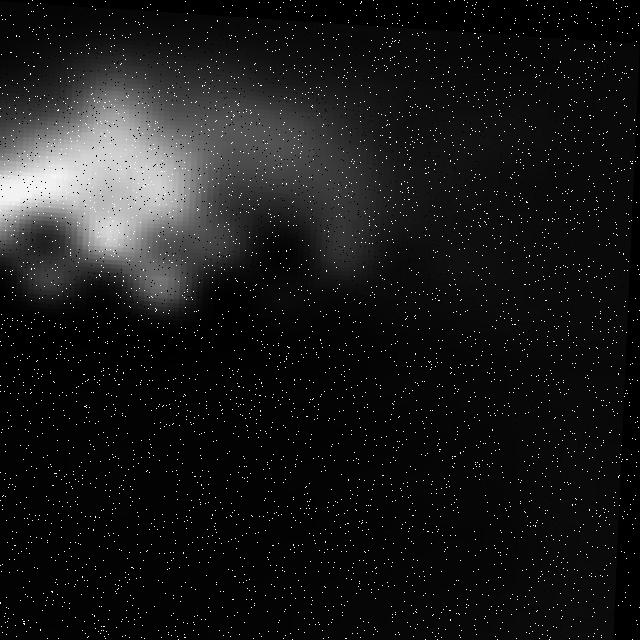person: (1, 31, 442, 340)
